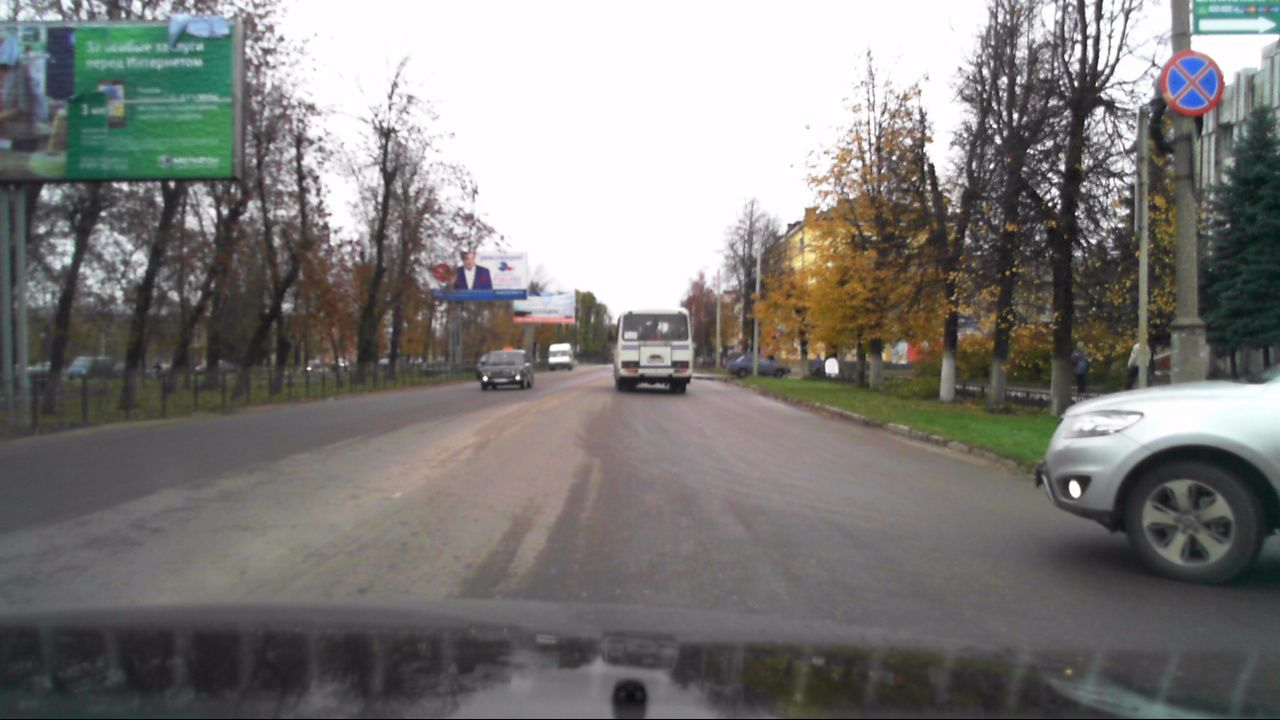No Parking: (1160, 51, 1224, 116)
